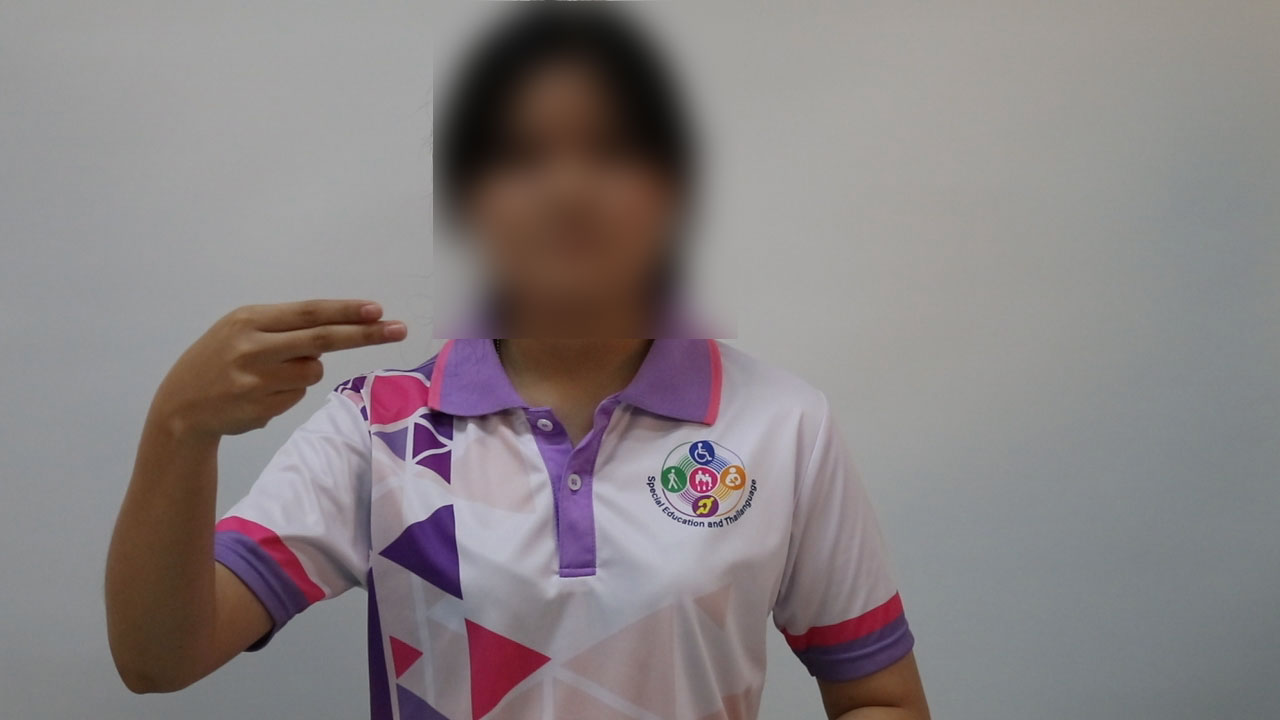hor: (142, 282, 428, 445)
